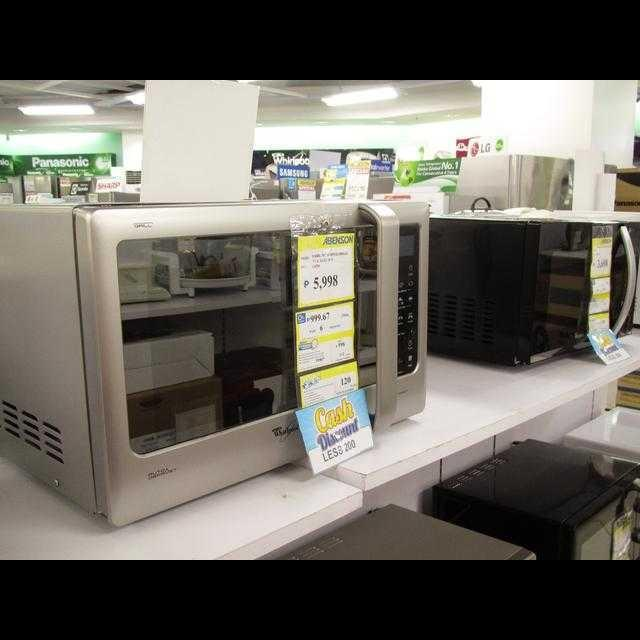Oven: (72, 193, 414, 494)
